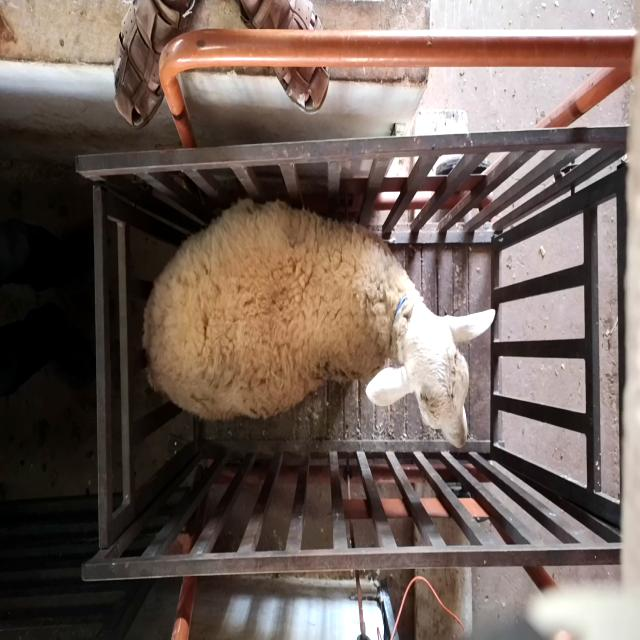sheep: (143, 200, 497, 450)
